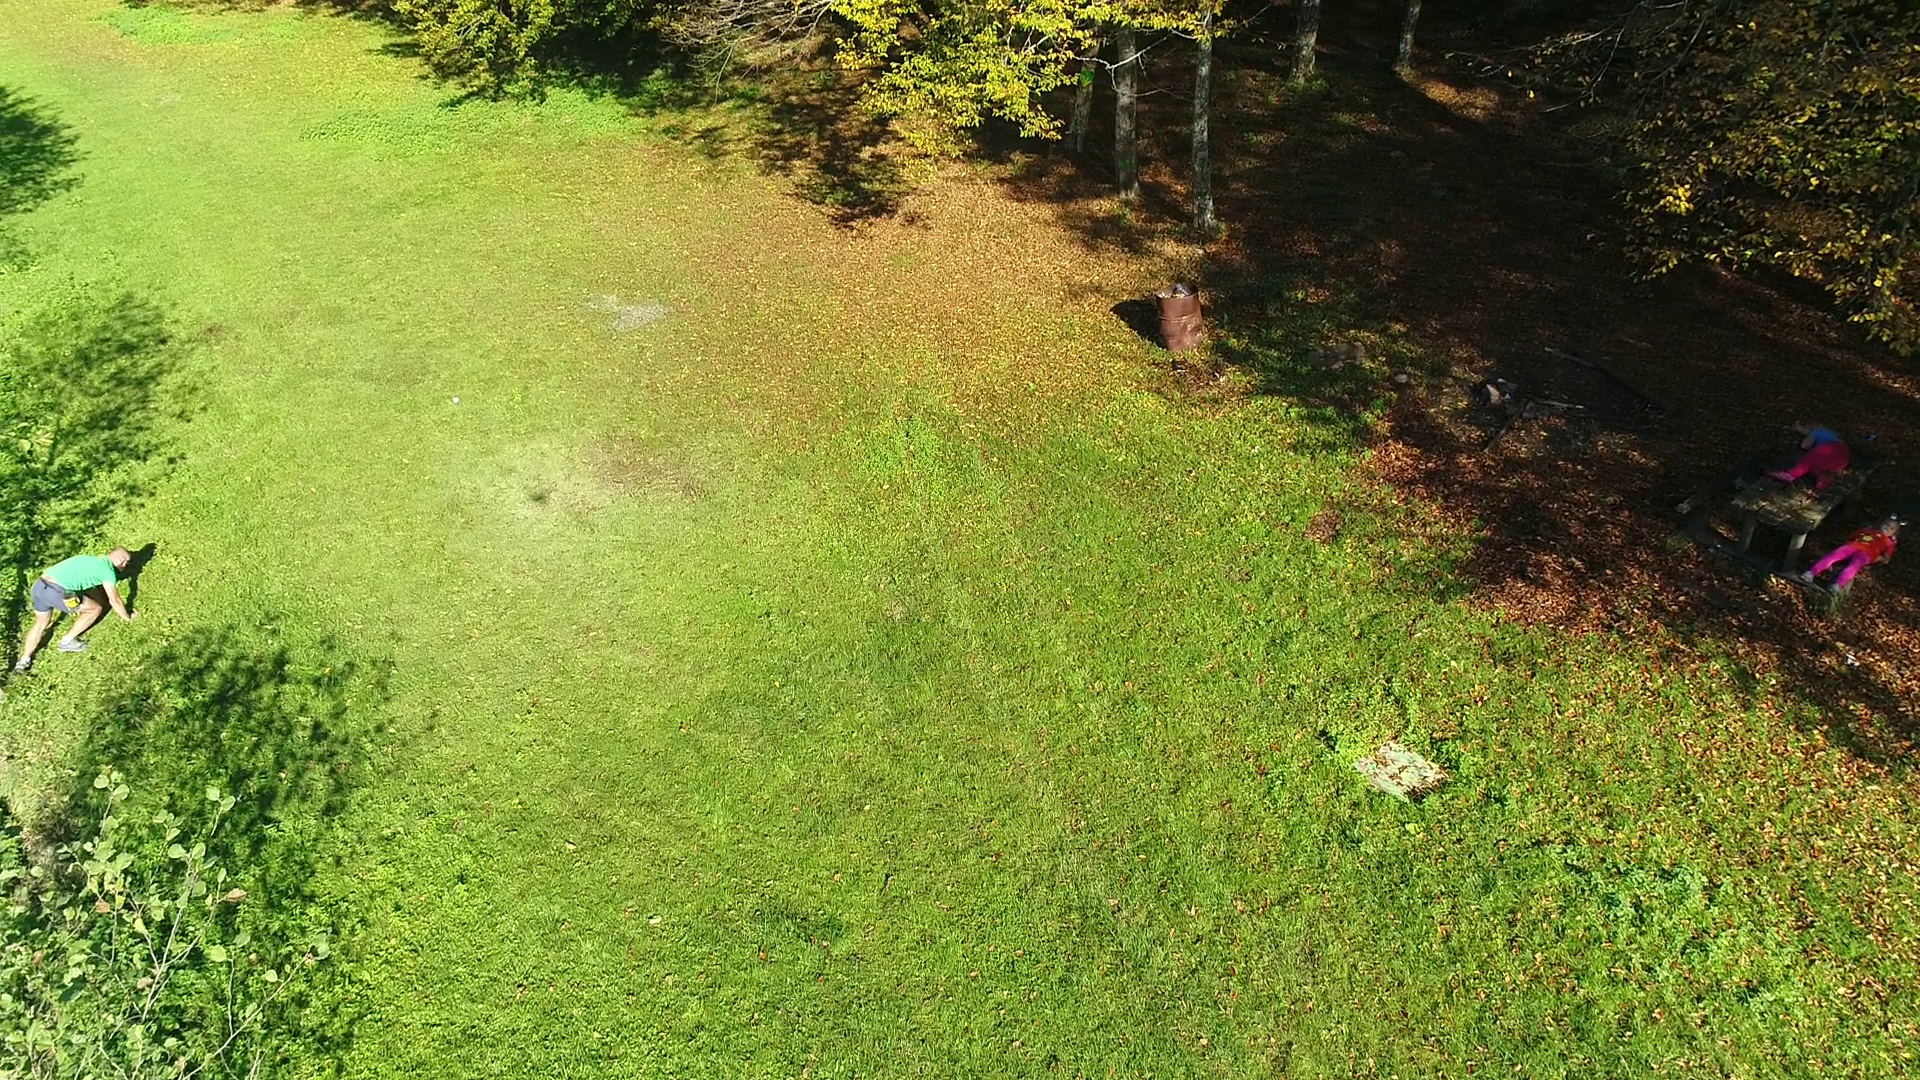person: (9, 545, 133, 675), (1800, 518, 1900, 594), (1767, 419, 1852, 490)
